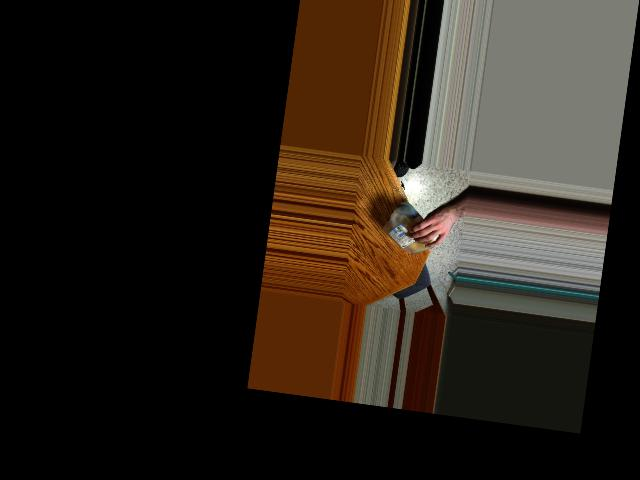cheese: (378, 200, 447, 259)
